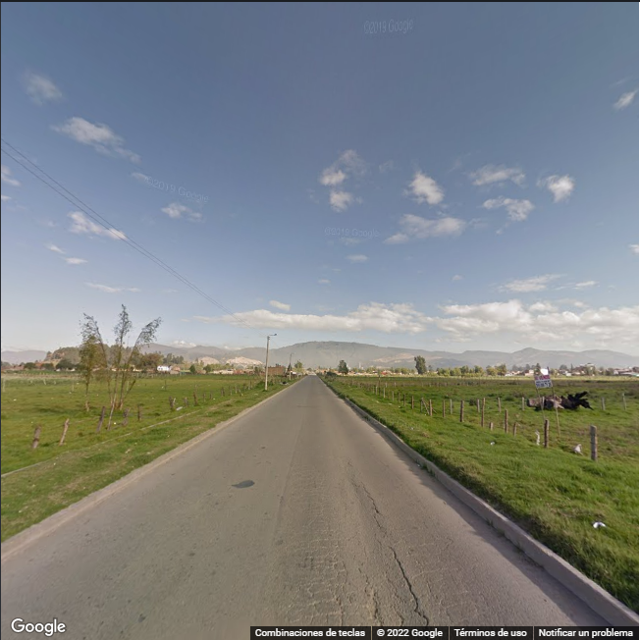D00: (387, 545, 433, 623), (356, 475, 381, 534)
D20: (296, 470, 356, 632)
